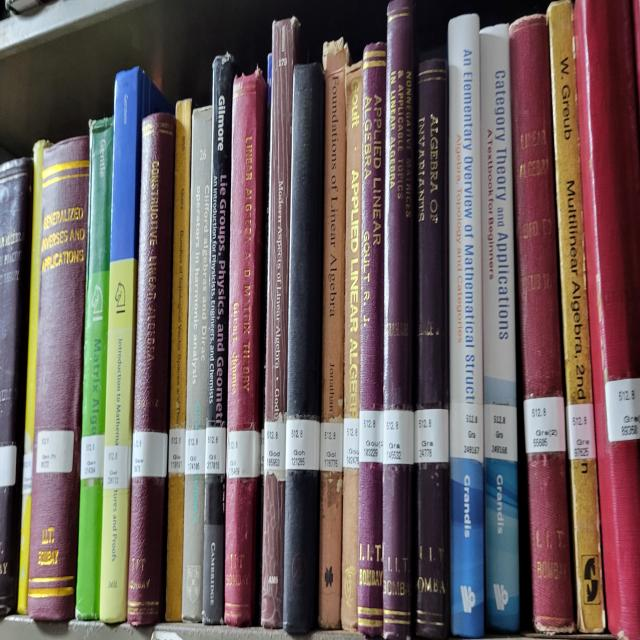Book: (574, 0, 640, 639), (509, 16, 574, 633), (100, 68, 168, 622), (548, 0, 605, 630), (28, 135, 89, 620), (282, 62, 325, 633), (480, 24, 520, 630), (128, 114, 175, 625), (261, 16, 299, 628), (225, 70, 266, 625), (449, 14, 484, 636), (382, 0, 414, 639), (415, 60, 450, 639), (75, 116, 114, 620), (202, 54, 235, 625), (319, 38, 350, 628), (358, 43, 386, 636), (181, 106, 211, 620), (18, 141, 50, 614), (0, 157, 32, 617), (165, 100, 191, 620), (341, 62, 362, 630)
Label: (524, 398, 565, 455), (605, 379, 640, 441), (450, 403, 484, 463), (484, 403, 518, 460), (414, 409, 449, 463), (285, 419, 320, 471), (131, 430, 168, 479), (382, 409, 414, 465), (566, 403, 596, 460), (226, 430, 260, 479), (36, 430, 74, 473), (359, 409, 384, 463), (264, 422, 286, 479), (104, 446, 131, 490), (320, 422, 344, 471), (80, 433, 105, 479), (205, 427, 226, 473), (185, 430, 206, 476), (342, 417, 359, 468), (169, 427, 186, 473), (0, 444, 16, 487), (22, 452, 32, 495)
